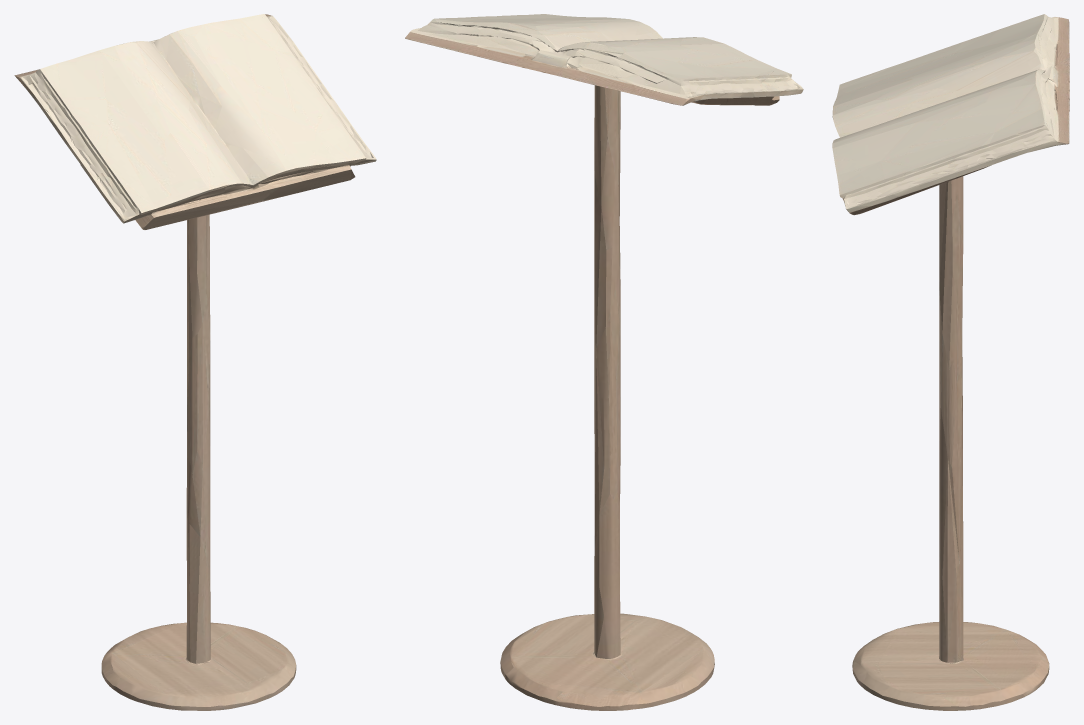
File: guestbook.glb
3 views of the same model, side by side, from view 1: azimuth 30°, elevation 25°; view 2: azimuth 150°, elevation 25°; view 3: azimuth 270°, elevation 25° (orthographic). The views are drawn at different scales.
Parts seen in each view (by area): view 1: Mesh_0; view 2: Mesh_0; view 3: Mesh_0.
Part boxes in pixels (<box>): Mesh_0: <box>14,14,376,710</box>; Mesh_0: <box>405,14,803,710</box>; Mesh_0: <box>832,14,1069,710</box>.
Size of the model in its own units: 0.8336 by 1.9 by 0.6693.
1 material, 1 textured.
